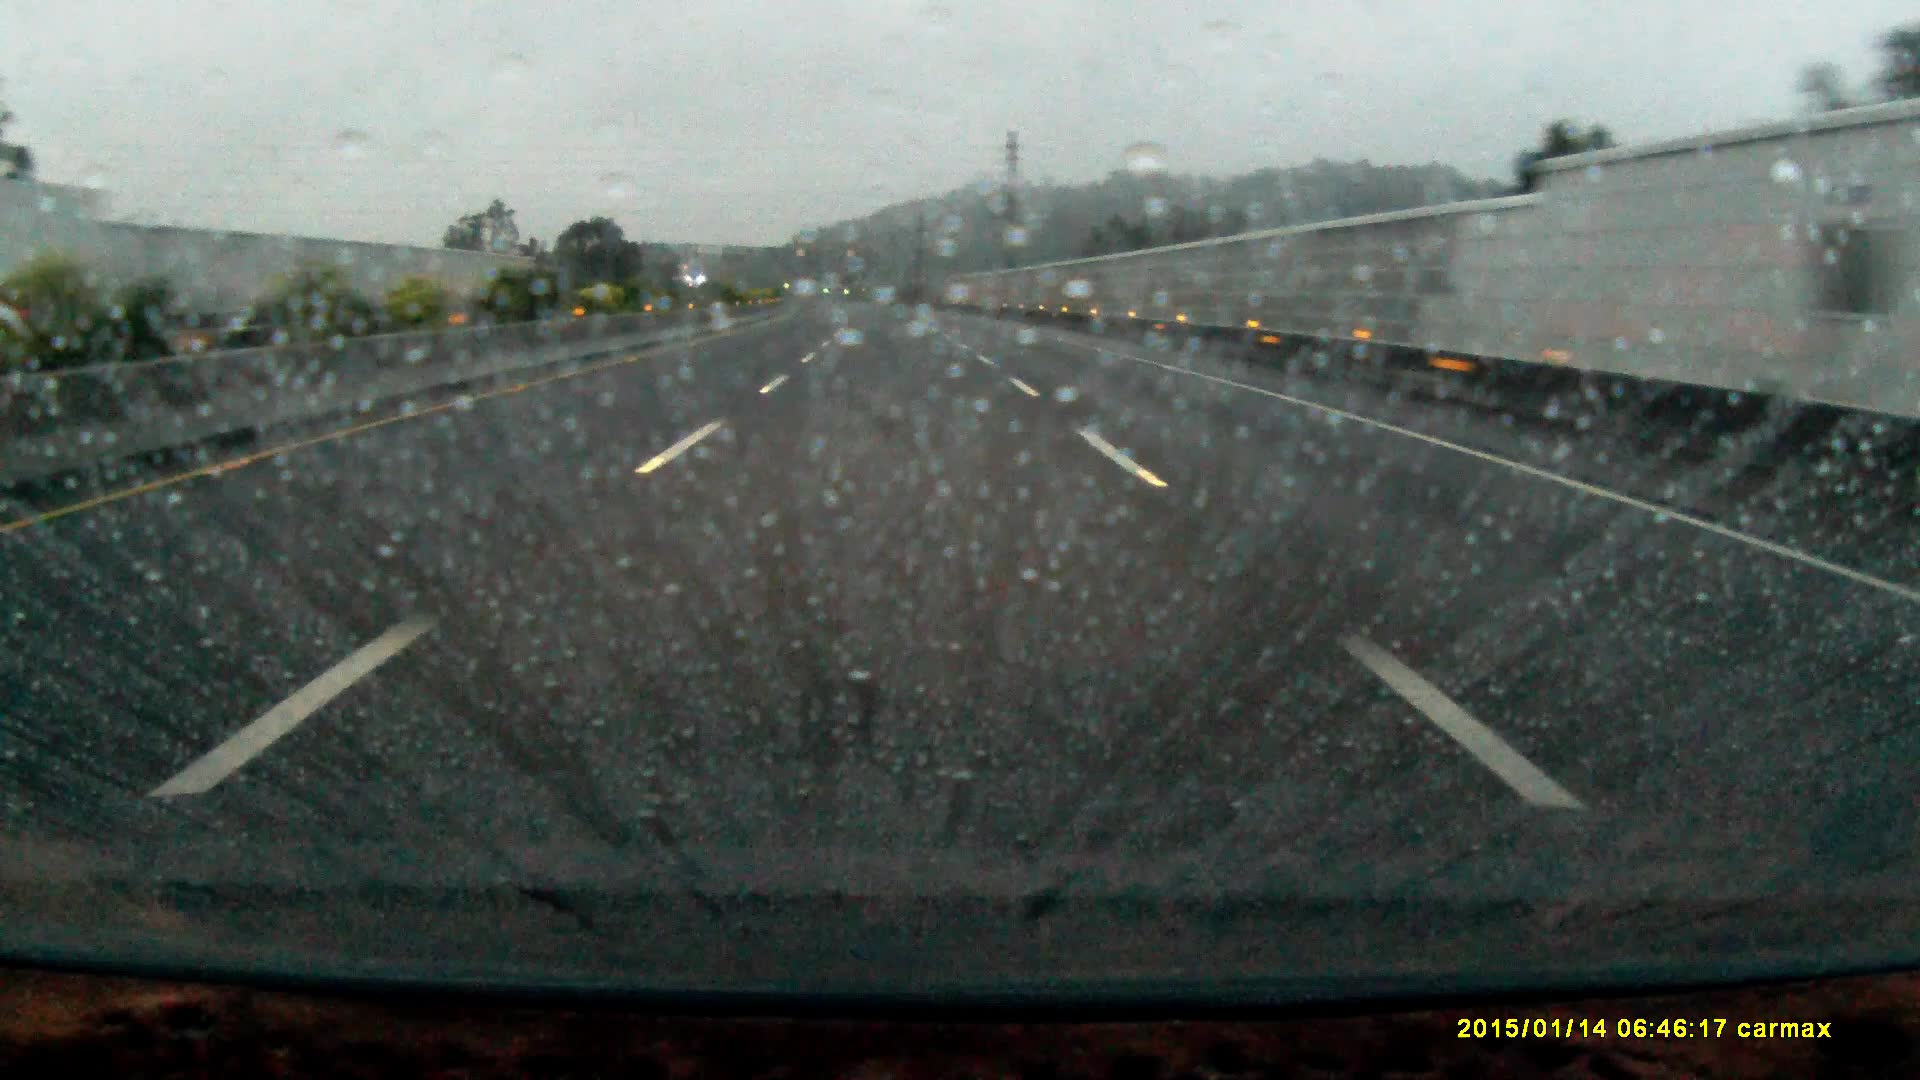vehicle: (1, 178, 112, 355)
